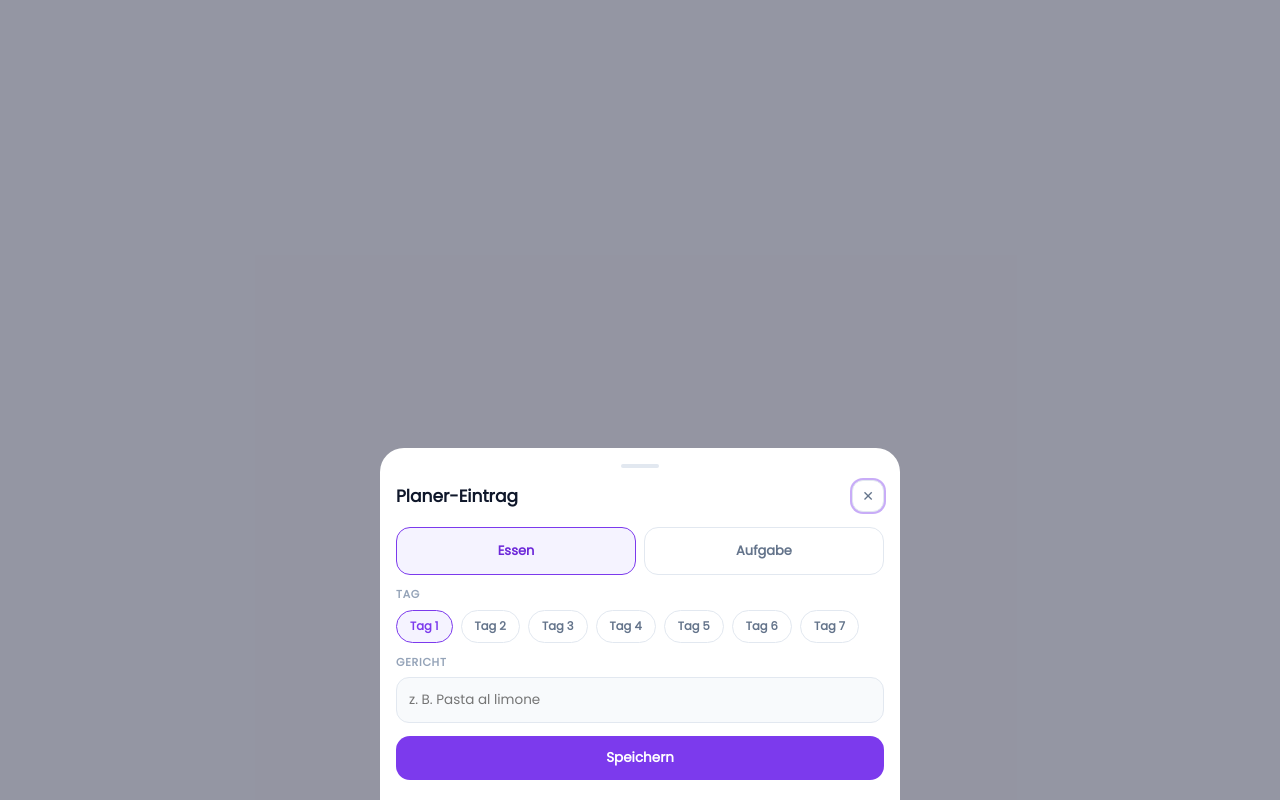
Test: PlanSheet › wechselt zwischen Mahlzeit und Aufgabe und zeigt die Personenwahl nur bei Aufgabe
Expected: the text "Wer macht es?" is not shown
Click the button "Aufgabe" at {"x": 764, "y": 551}, box [644,527,884,575]
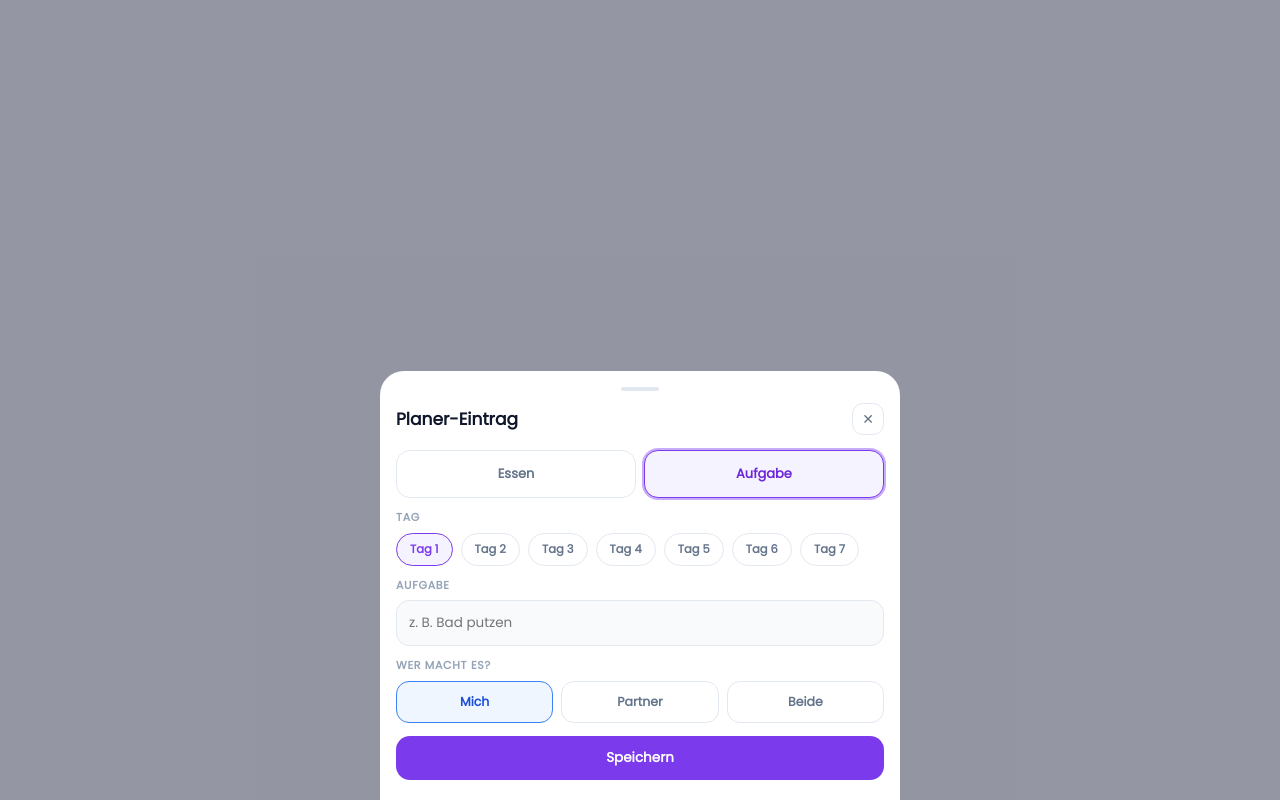
Expected: the text "Wer macht es?" is shown, [396,657,491,673]
